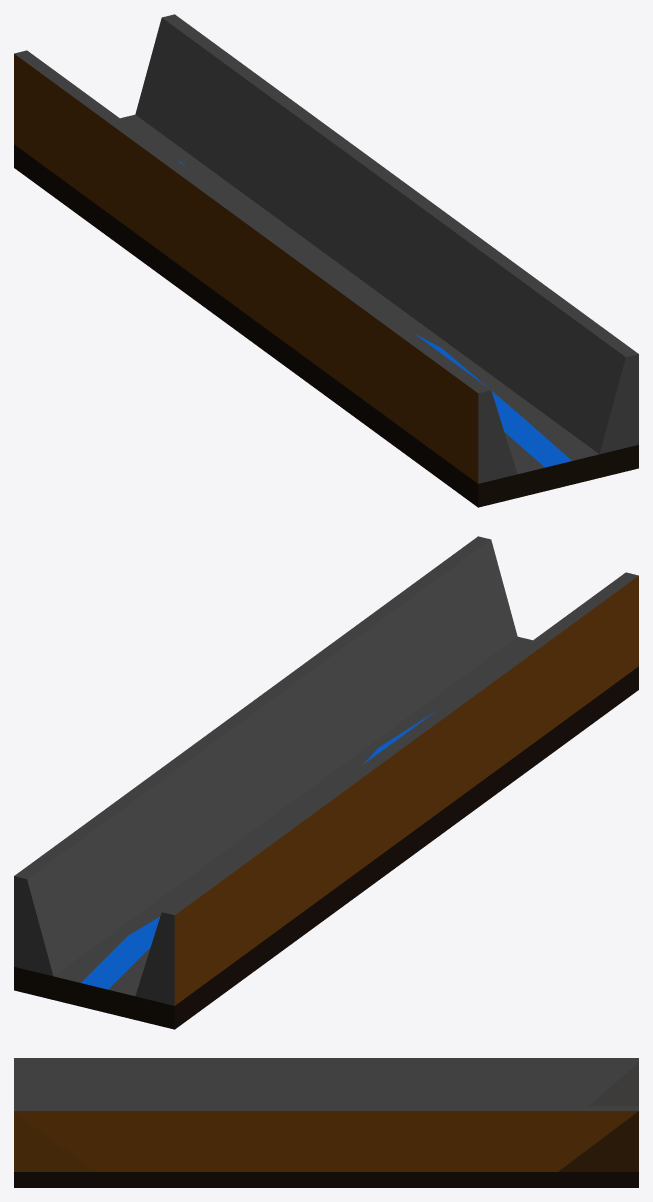
Rendered from SM_river.FBX.
The picture shows the model from 3 angles, top to bottom: view 1: azimuth 30°, elevation 25°; view 2: azimuth 150°, elevation 25°; view 3: azimuth 270°, elevation 25°; orthographic projection. The views are drawn at different scales.
Visible parts, largest first — view 1: river; view 2: river; view 3: river.
Boxes of the visible parts, bbox=[...] form: river: bbox=[14, 14, 638, 507]; river: bbox=[14, 536, 638, 1029]; river: bbox=[14, 1058, 638, 1187].
Bounding box in the file's own units: 700 × 476 × 3500.
